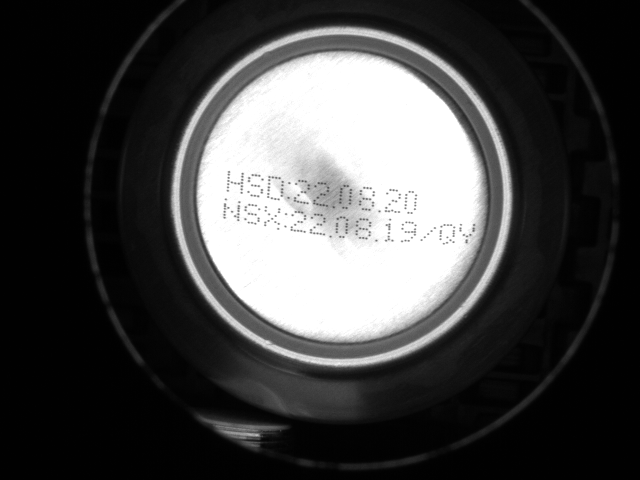/: (421, 222, 439, 242)
0: (337, 180, 362, 211), (329, 214, 354, 240), (401, 185, 420, 213)
1: (380, 218, 397, 245)
2: (379, 182, 404, 212), (289, 173, 314, 202), (313, 176, 336, 205), (285, 210, 311, 235), (310, 210, 327, 236)
8: (353, 218, 377, 243), (359, 184, 376, 208)
9: (398, 217, 422, 245)
D: (266, 173, 288, 199)
H: (225, 168, 248, 192)
N: (218, 200, 243, 226)
Q: (437, 219, 458, 243)
S: (244, 170, 267, 199), (241, 204, 261, 229)
X: (264, 206, 290, 229)
Y: (459, 218, 480, 246)
